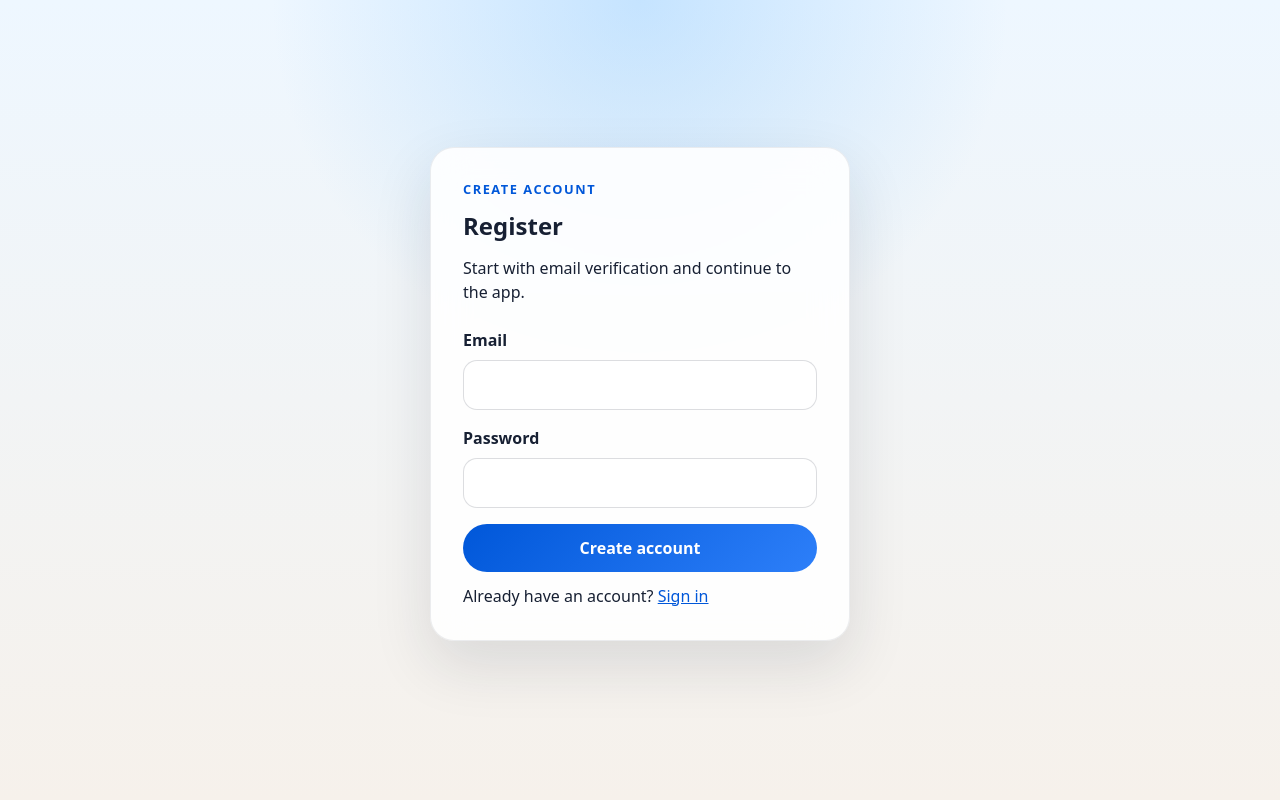
Test: auth pages › shows API errors on register page
Type "user@example.com" into the field labelled "Email" at [640, 385], box [463, 360, 817, 410]
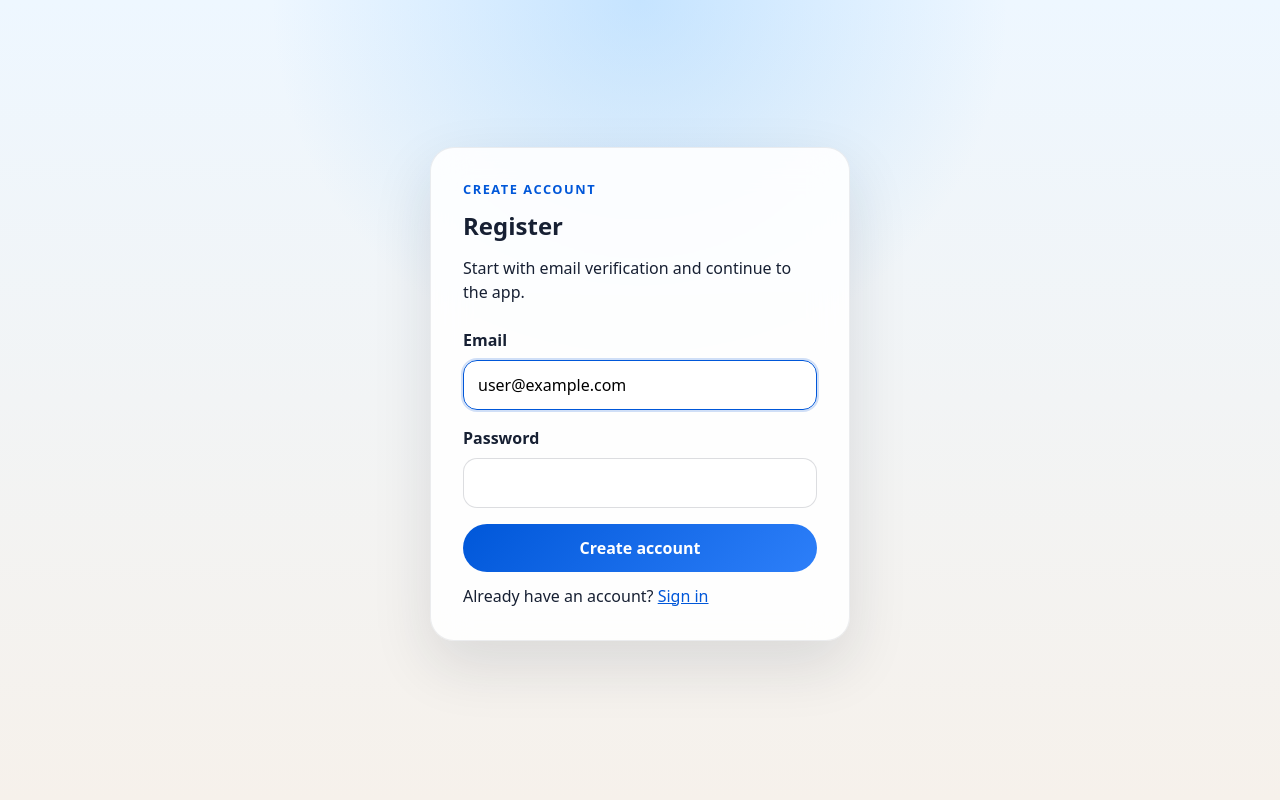
Type "password123" into the password field labelled "Password" at [640, 483], box [463, 458, 817, 508]
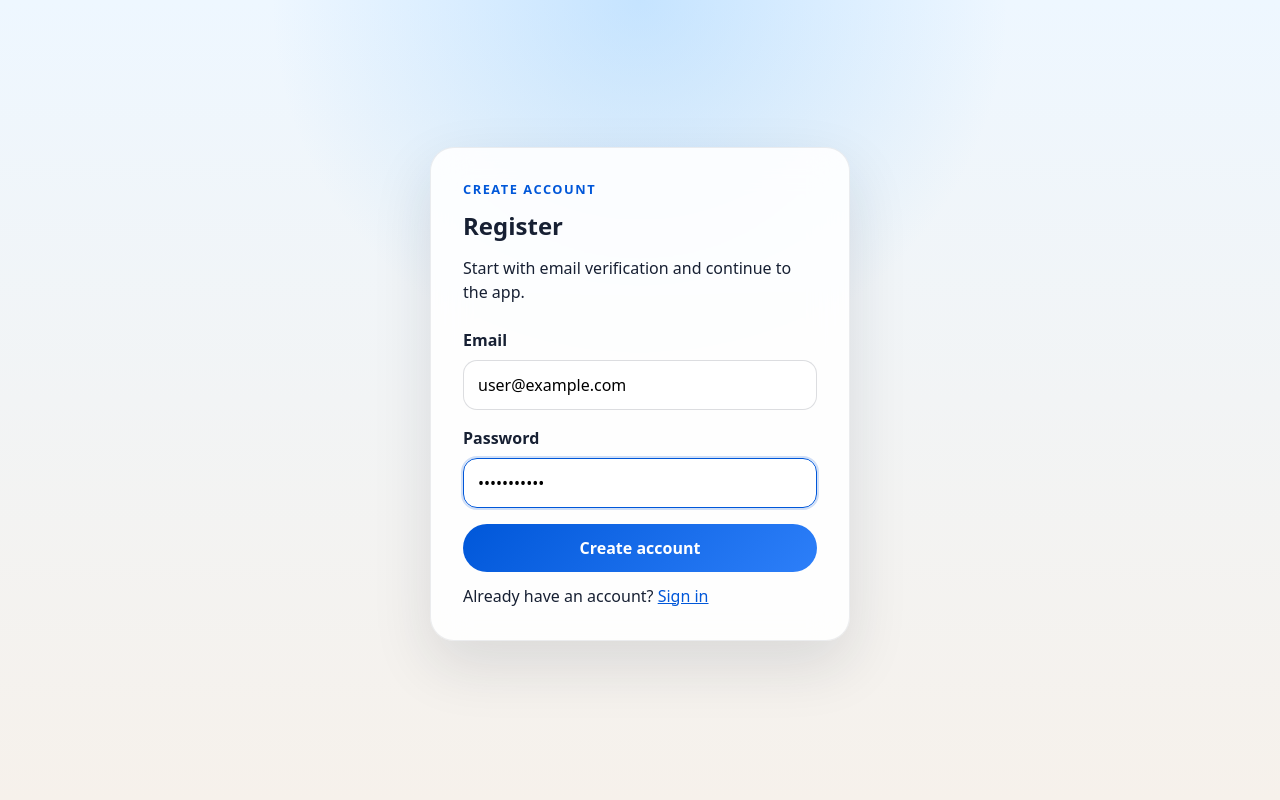
Click the button "Create account" at [640, 548], box [463, 524, 817, 572]
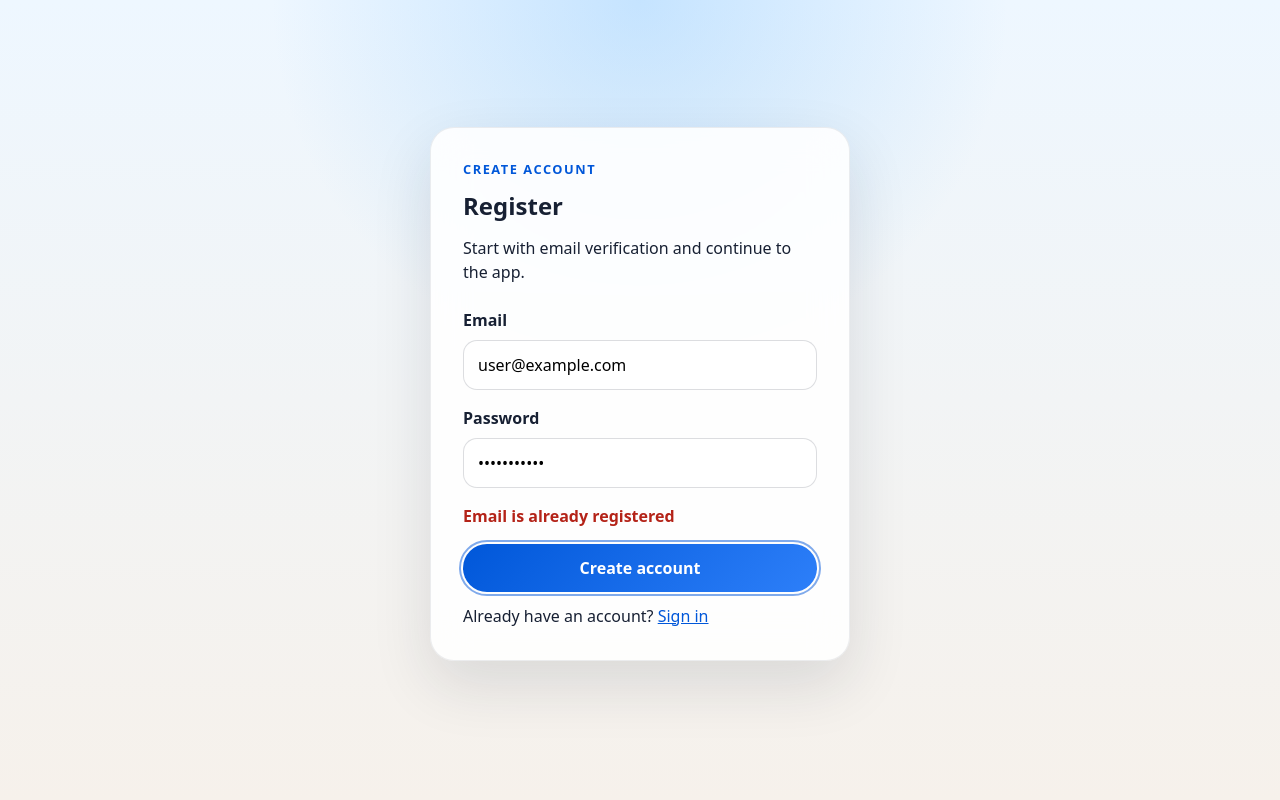
Expected: the message reads "Email is already registered", [463, 505, 674, 527]
